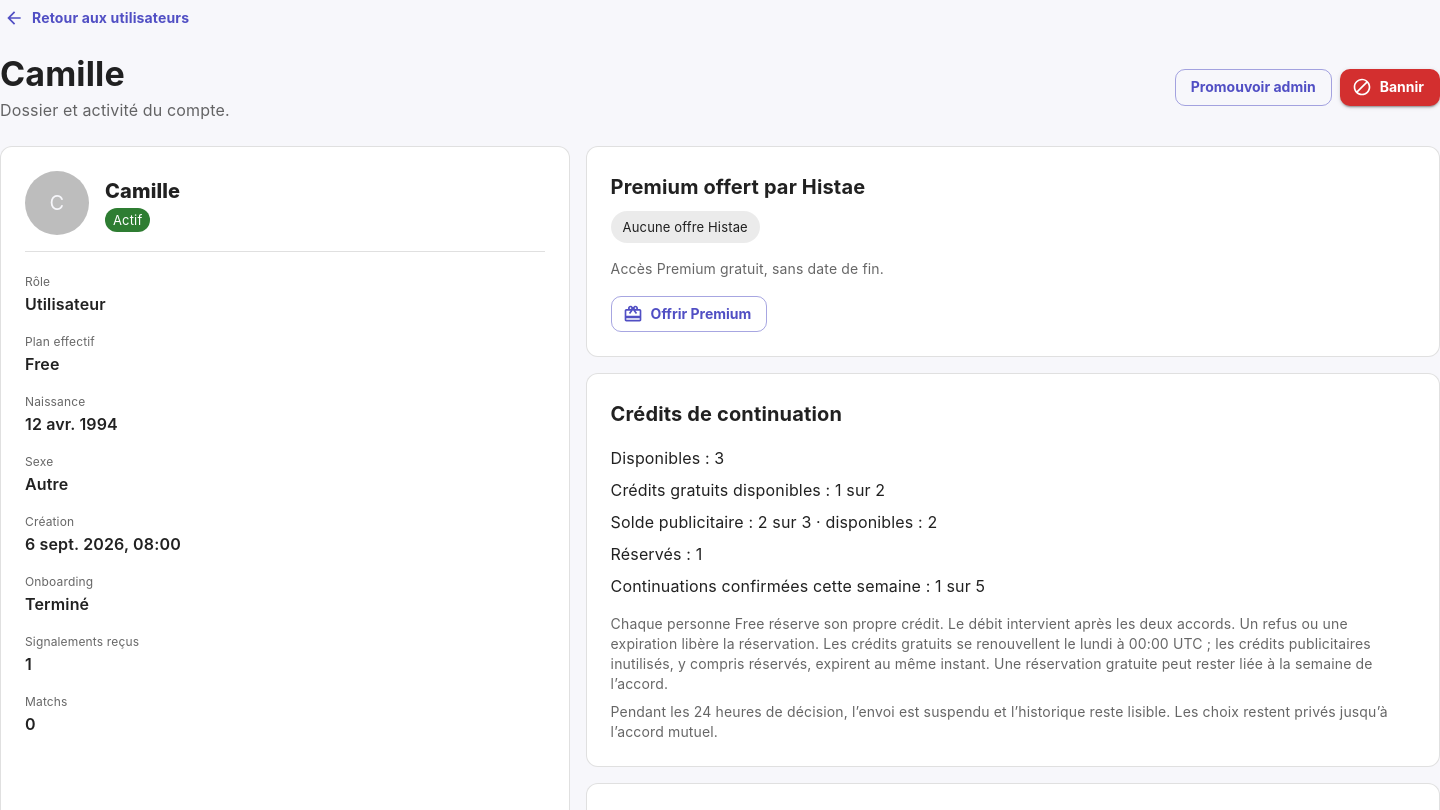
Test: complimentary Premium › lets the superadmin grant and revoke a gift from the user file without a reason
Click the button "Offrir Premium".
click(689, 314)  # box [611,296,767,332]
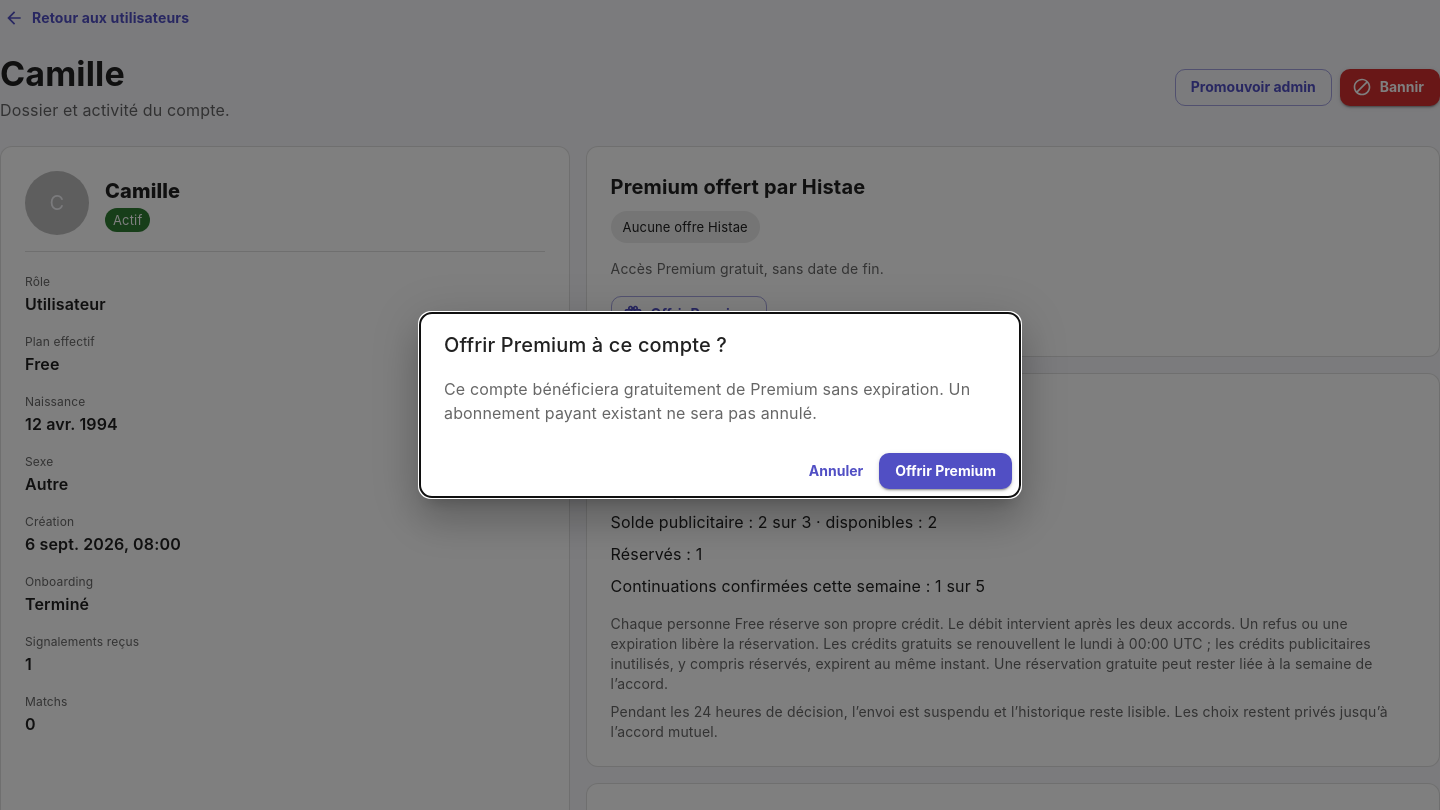
Click the button "Offrir Premium".
click(946, 471)  # box [879,453,1012,489]
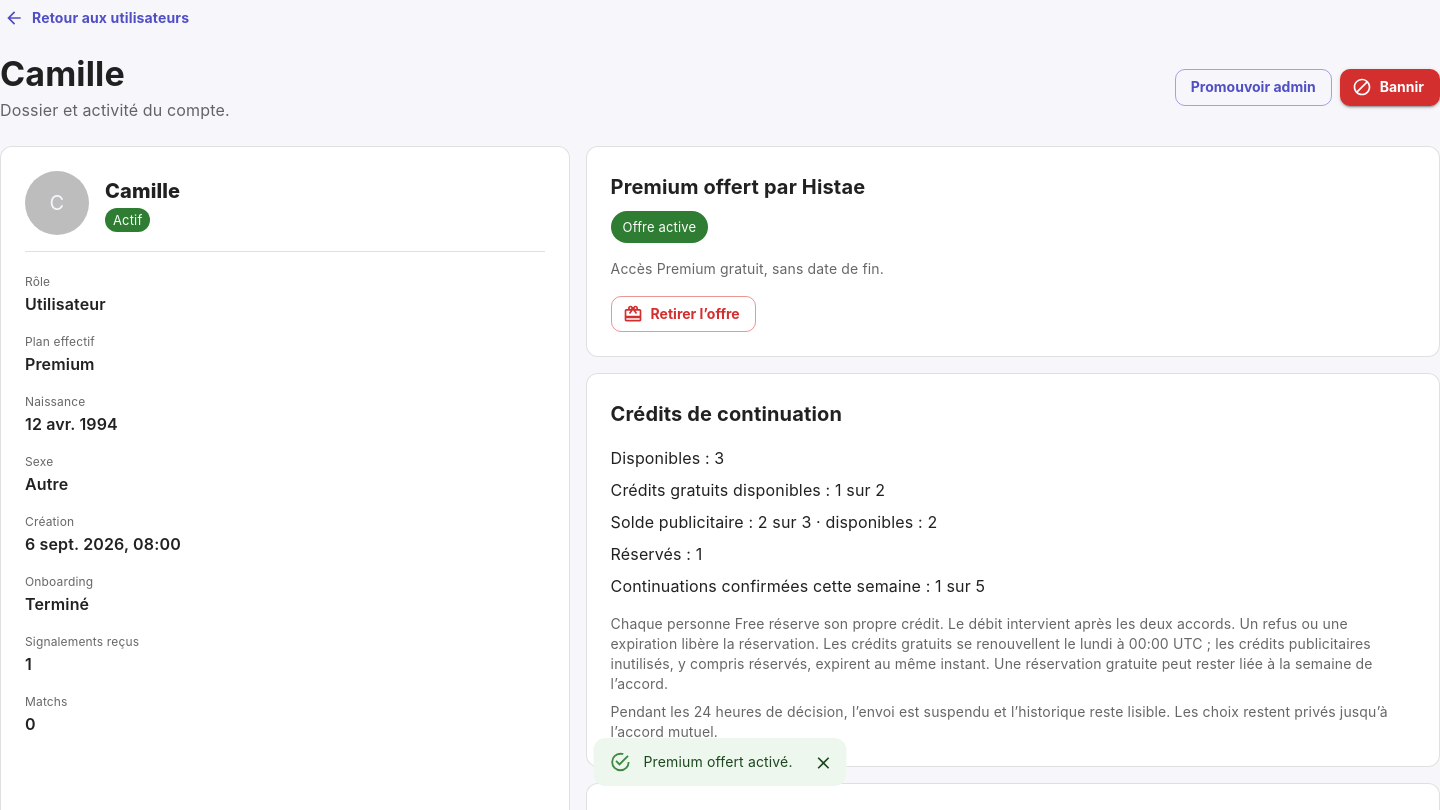
Click the button "Retirer l’offre".
click(683, 314)  # box [611,296,756,332]
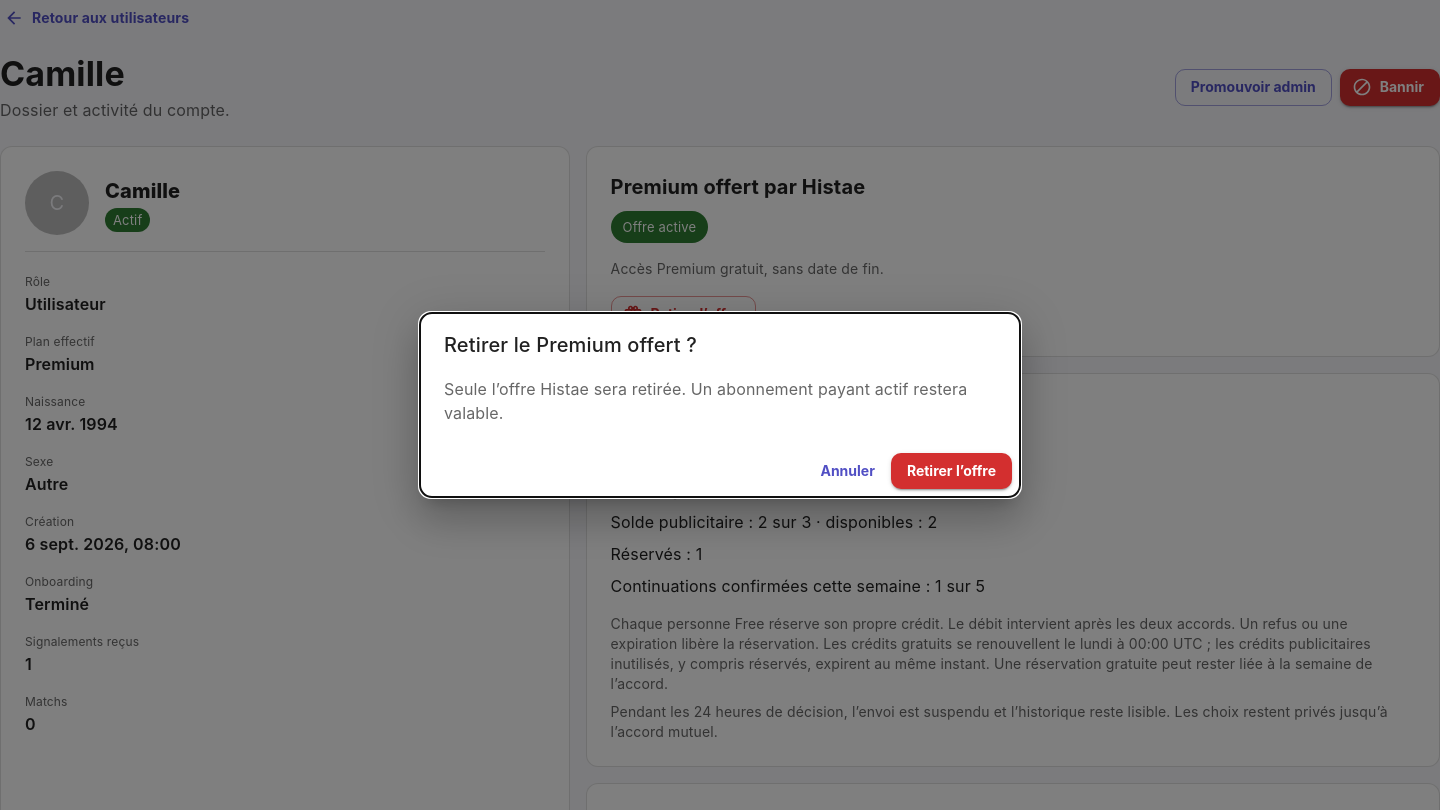
Now the text "Un abonnement payant actif restera valable" is shown, box [444,379,967,423]
Click the button "Retirer l’offre".
click(951, 471)  # box [891,453,1012,489]
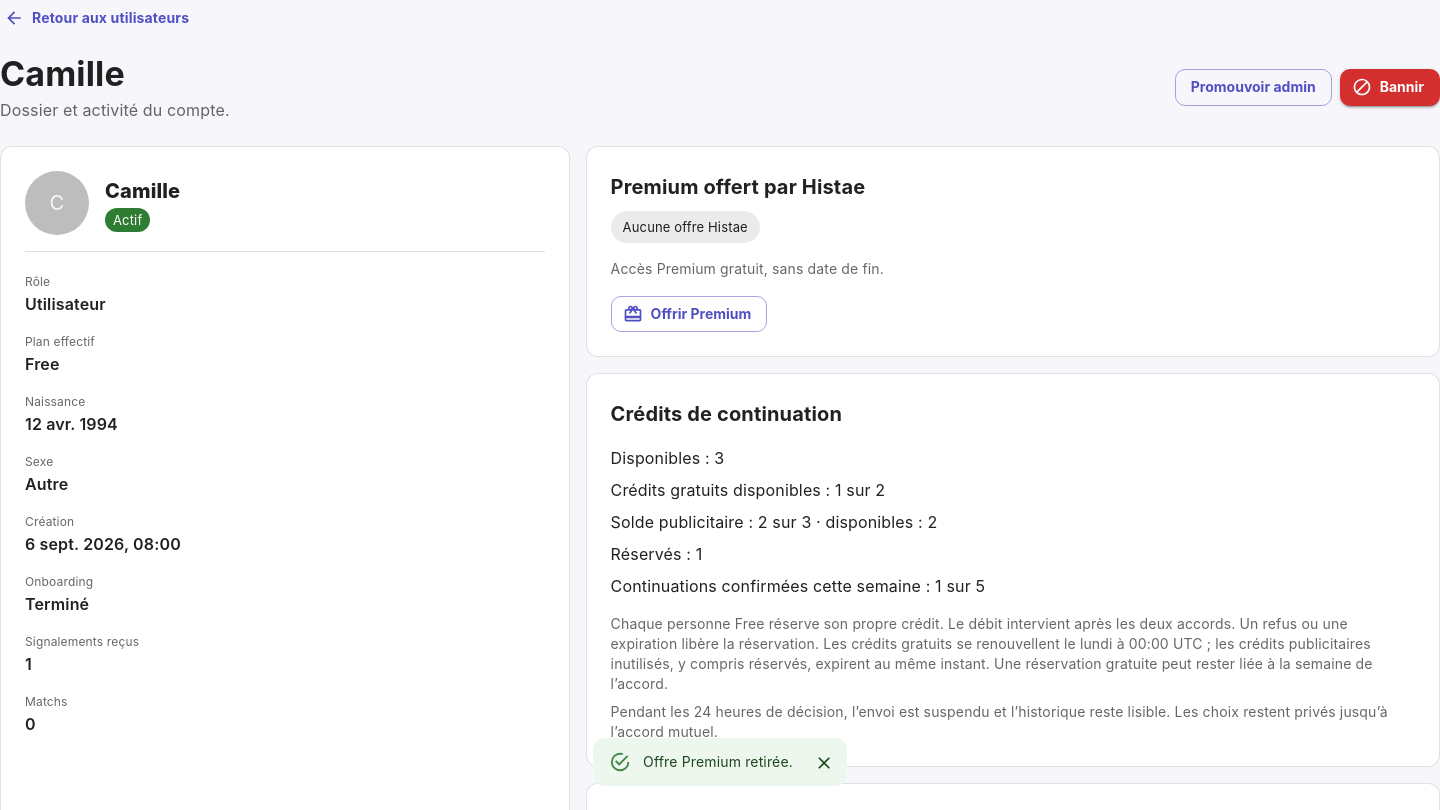
Now the button "Offrir Premium" is shown, box [611,296,767,332]
